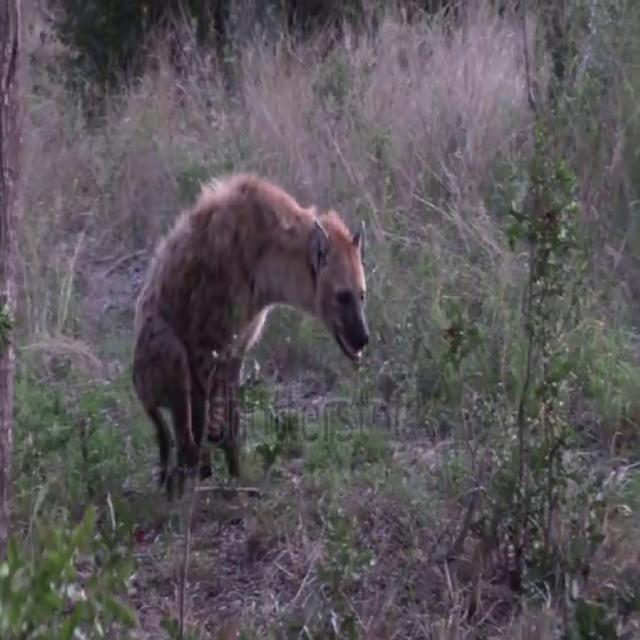normal_animals: (128, 167, 374, 505)
